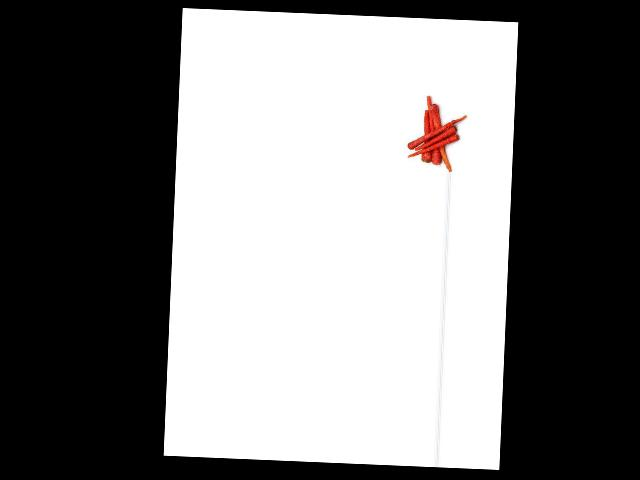carrot: (408, 134, 458, 160)
